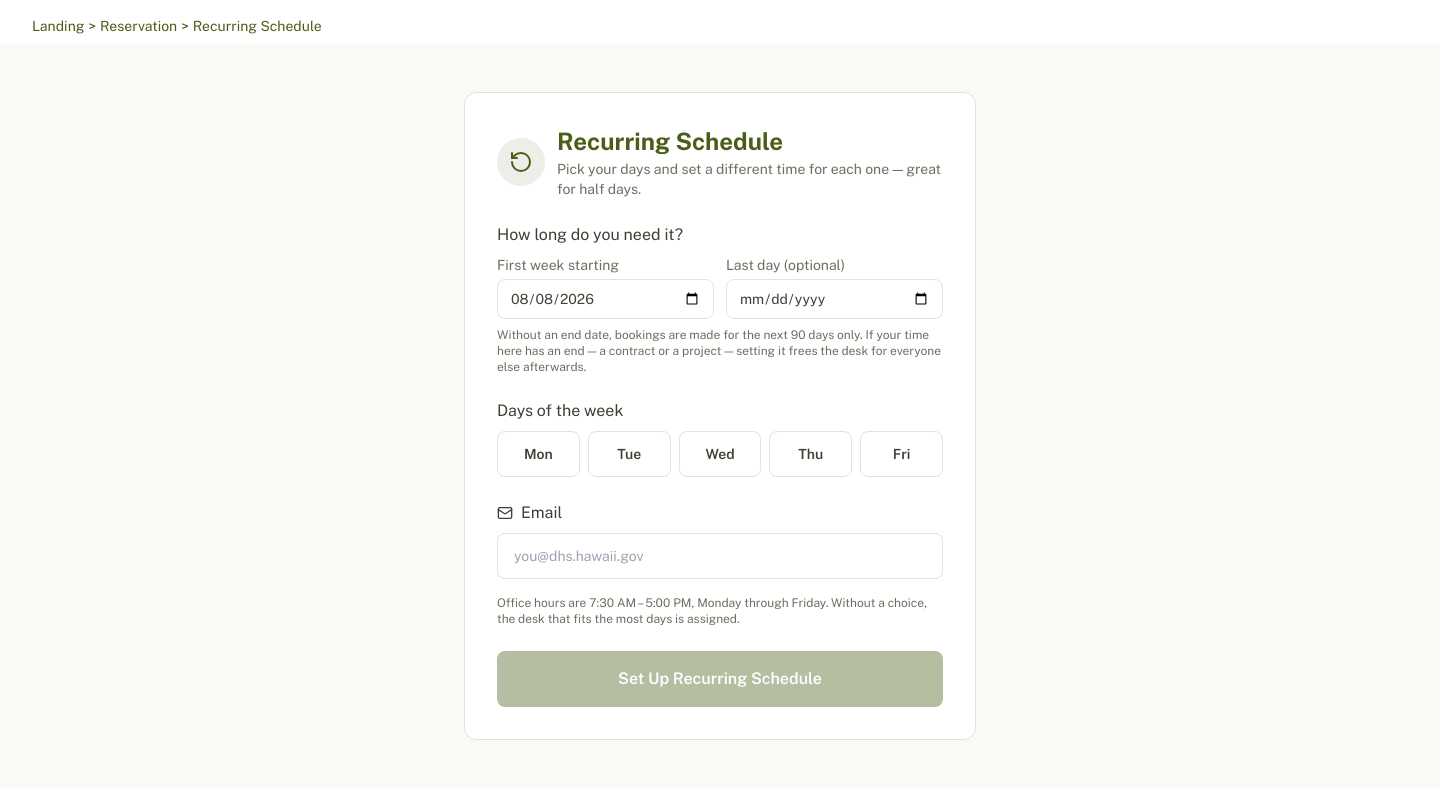
a successful request renders its confirmation instead of crashing
This screenshot has width=1440, height=810.
Click the button "Mon": (538, 454) [497, 431, 580, 477]
(page scrolled)
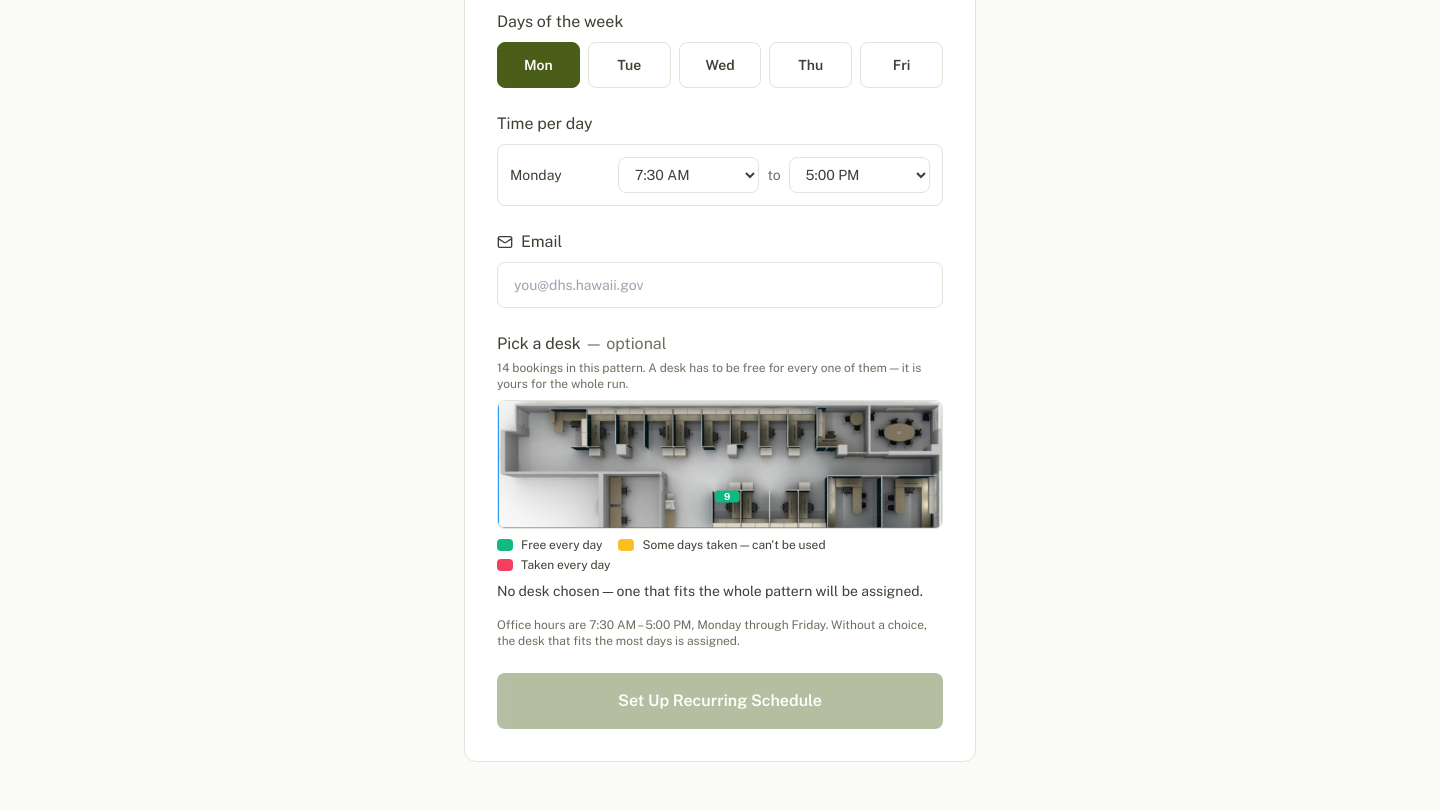
Click the button named "Desk 9": (727, 497) [715, 490, 739, 503]
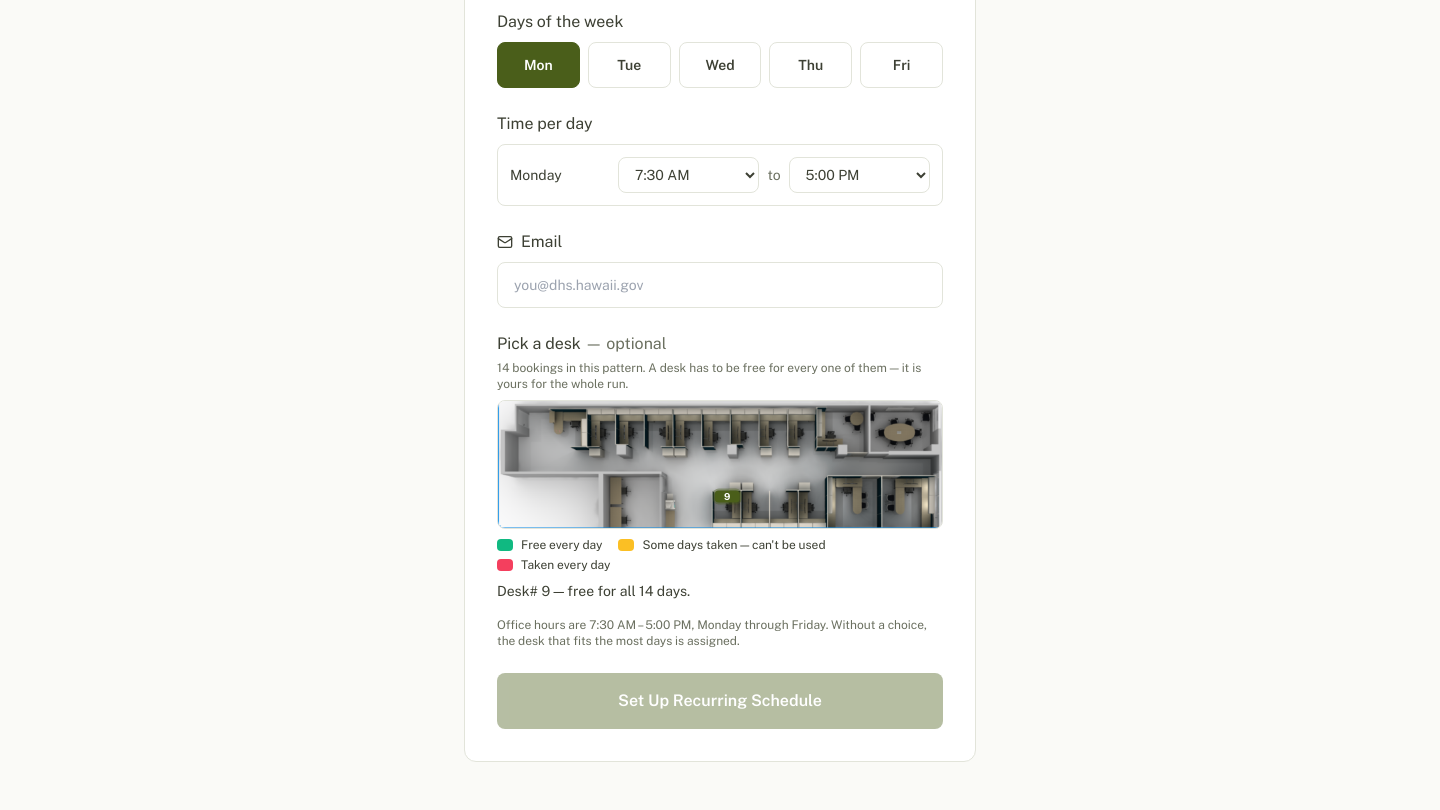
In the field with placeholder "you@dhs.hawaii.gov": (720, 285) [497, 262, 943, 308], type "penny.kabua@dhs.hawaii.gov"
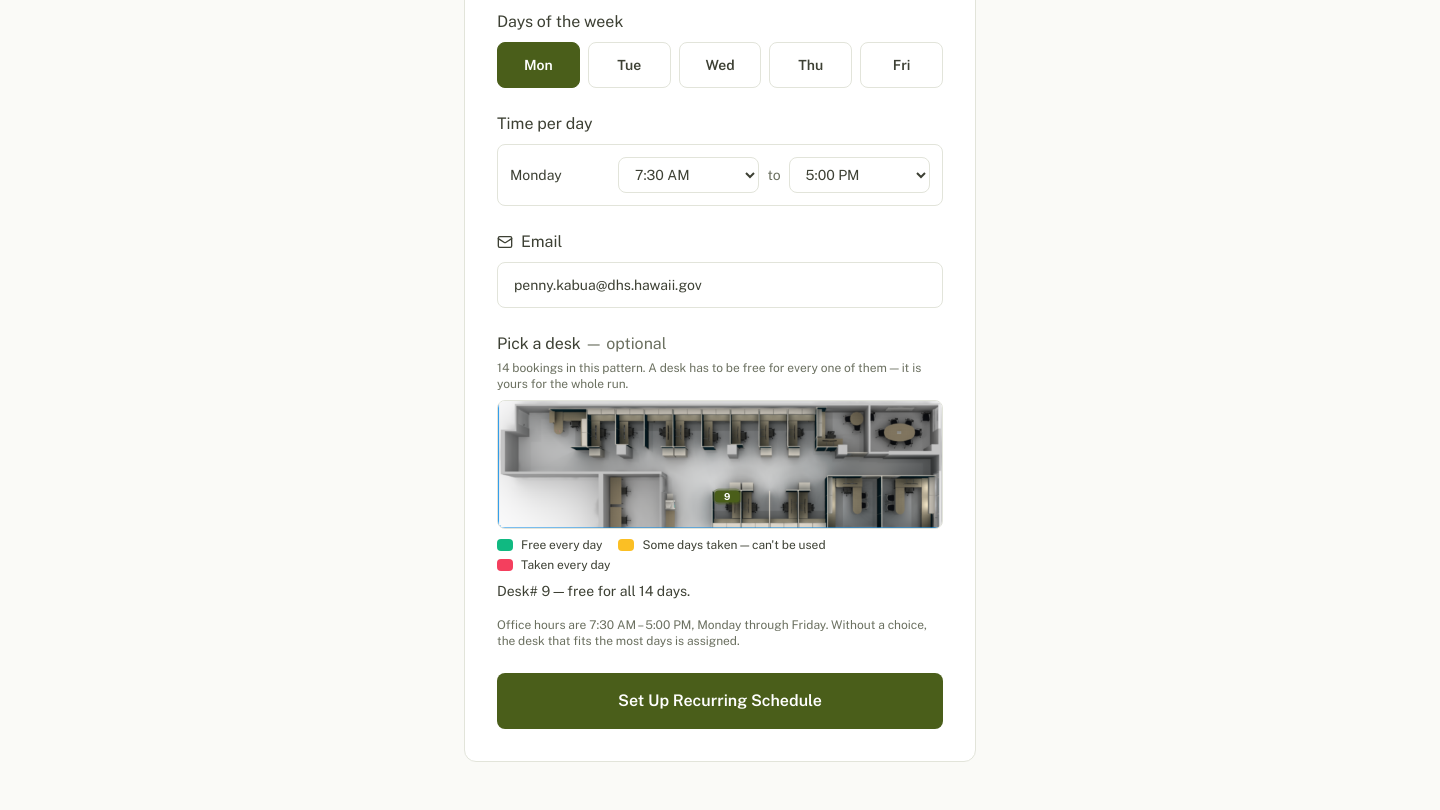
Click the button "Set Up Recurring Schedule": (720, 701) [497, 673, 943, 729]
(page scrolled)
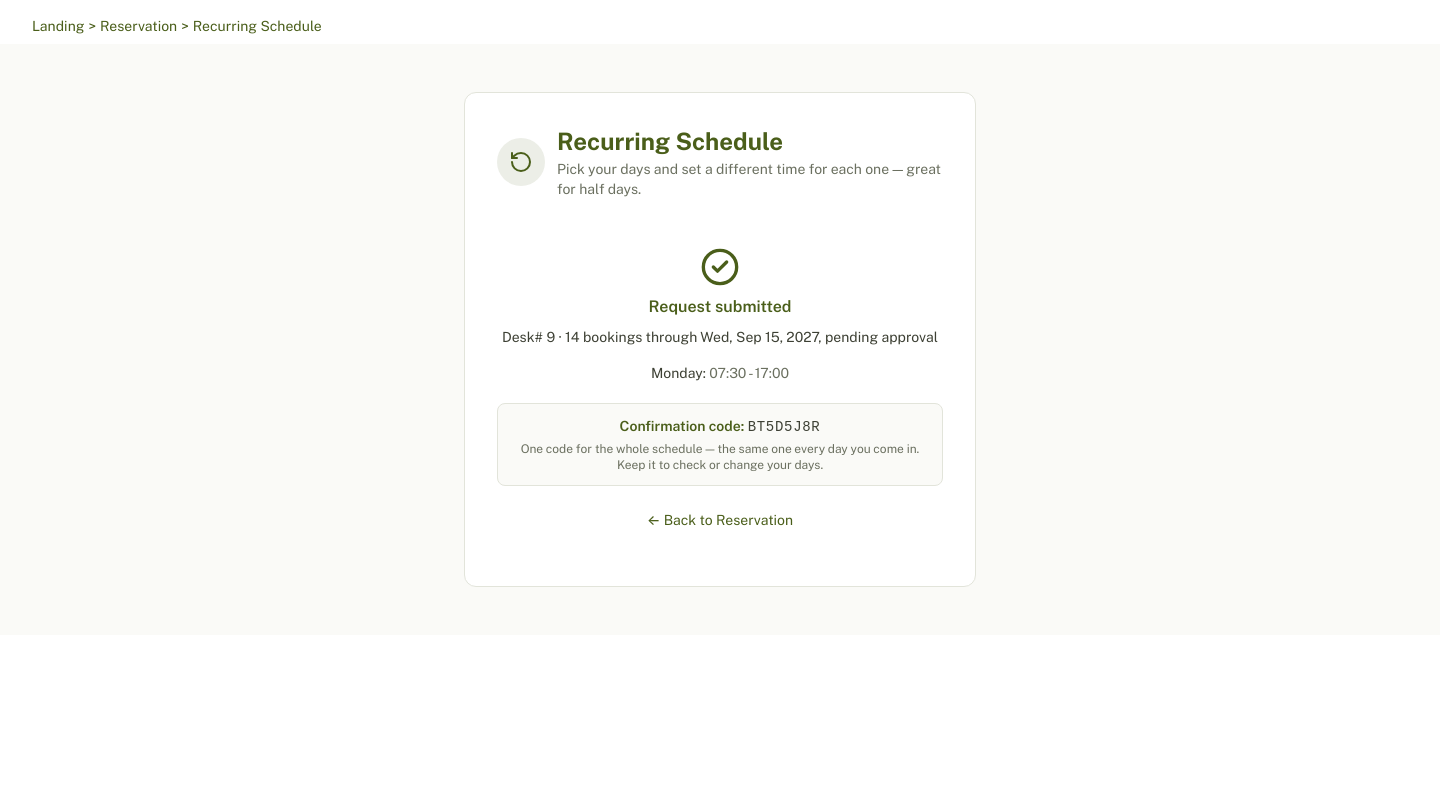
expect the text "Request submitted" is shown: met, box [649, 295, 792, 319]
expect the text "Desk# 9" is shown: met, box [502, 329, 555, 345]
expect the text "14 bookings" is shown: met, box [502, 327, 938, 347]
